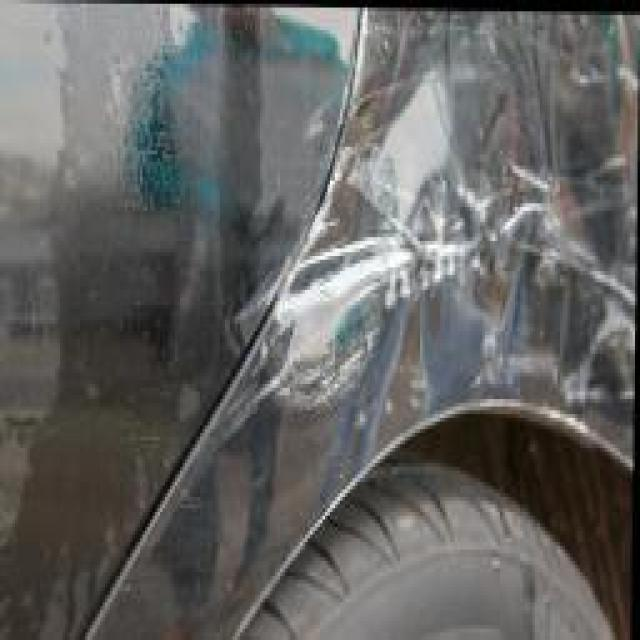Fender: (242, 11, 638, 553)
